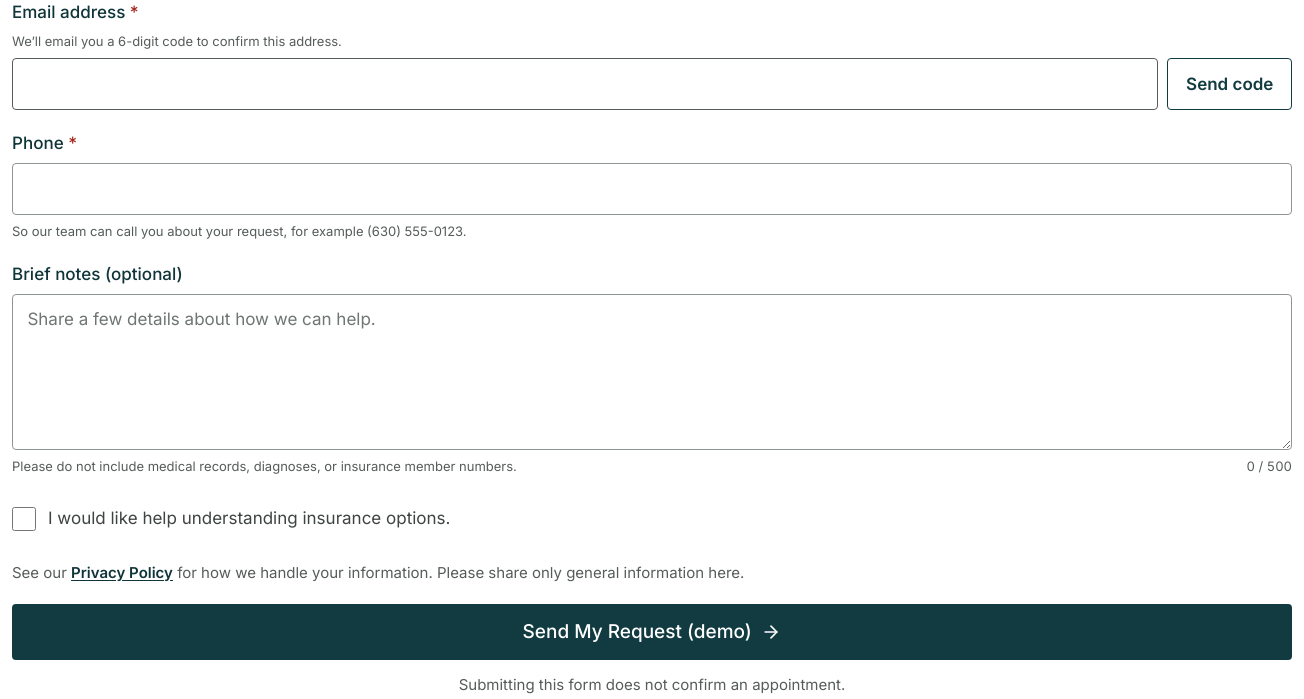
Test: AppointmentForm › shows an error summary and inline errors for missing required fields
(page scrolled)
Click the button "Send My Request (demo)" at (652, 632), box [12, 604, 1292, 660]
(page scrolled)
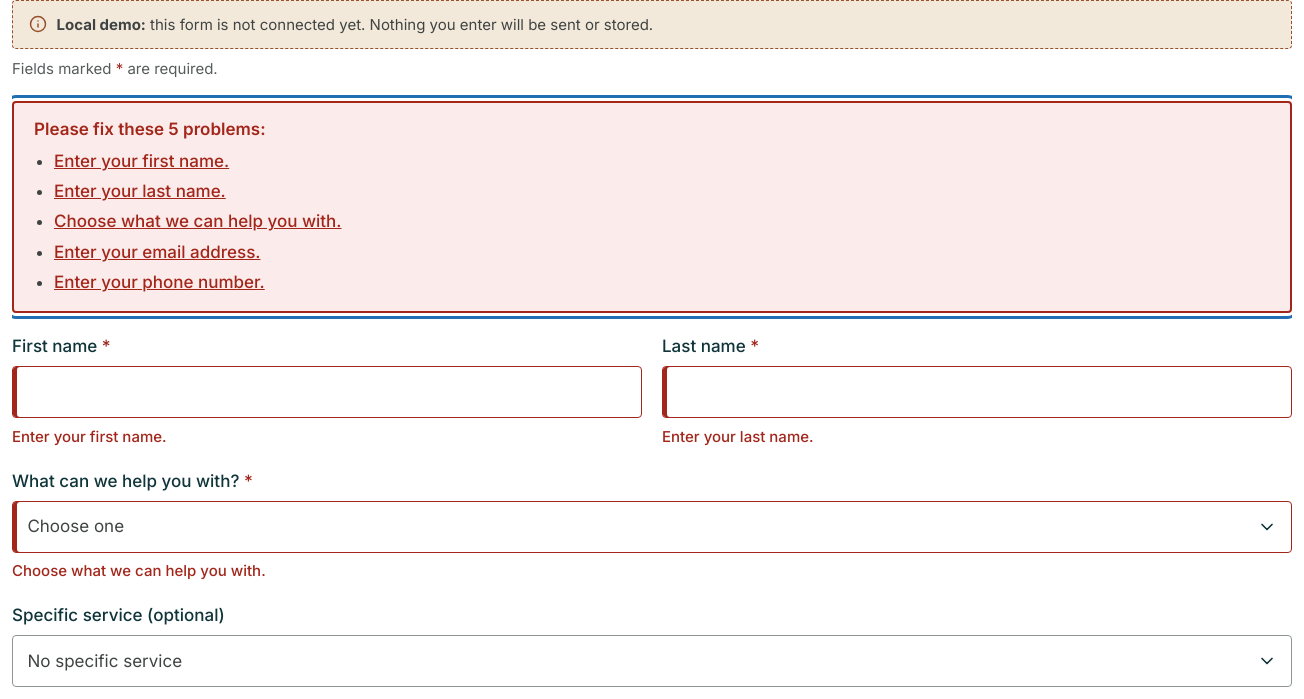
Check: the message shows "Please fix these 5 problems", box [12, 100, 1292, 314]
Check: the message shows "Enter your phone number.", box [54, 272, 265, 292]
